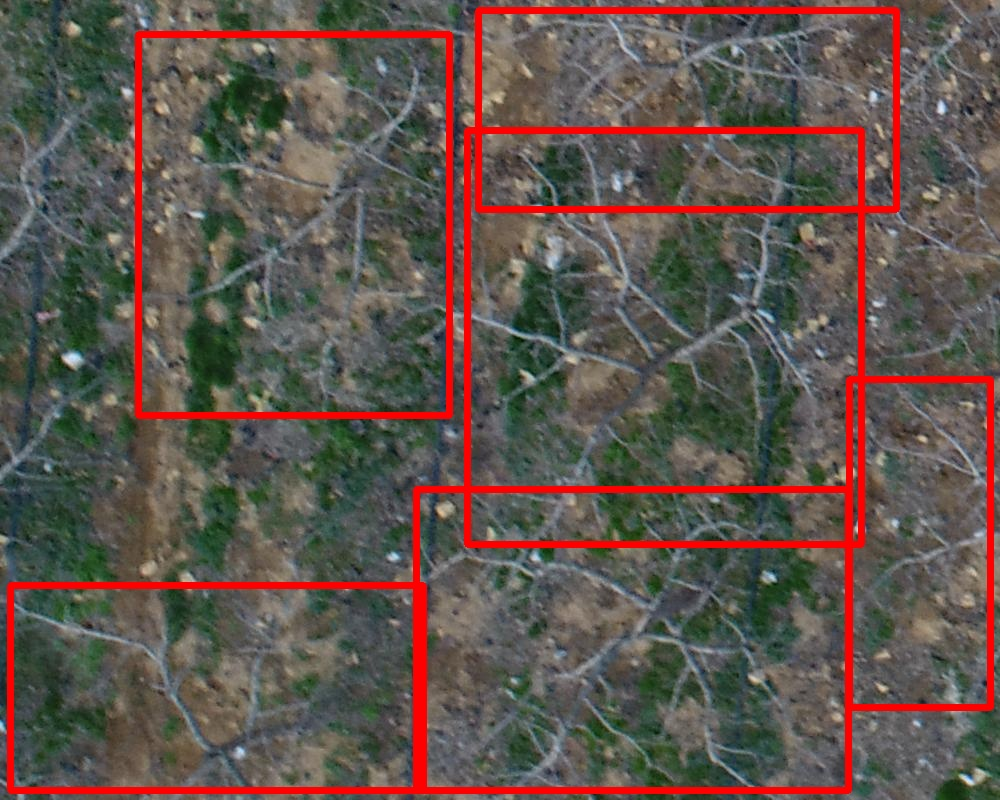apple: (467, 130, 861, 544), (416, 489, 848, 790), (138, 34, 449, 415), (10, 585, 423, 790), (478, 10, 896, 209), (849, 379, 990, 707)
